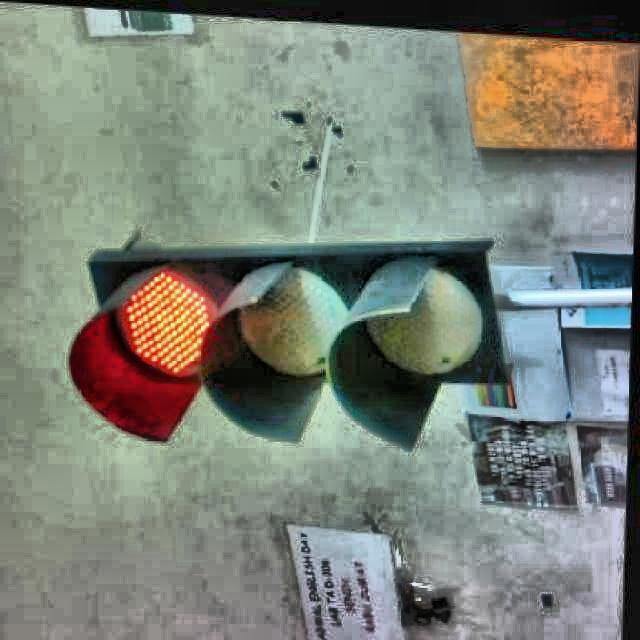red: (79, 250, 505, 409)
